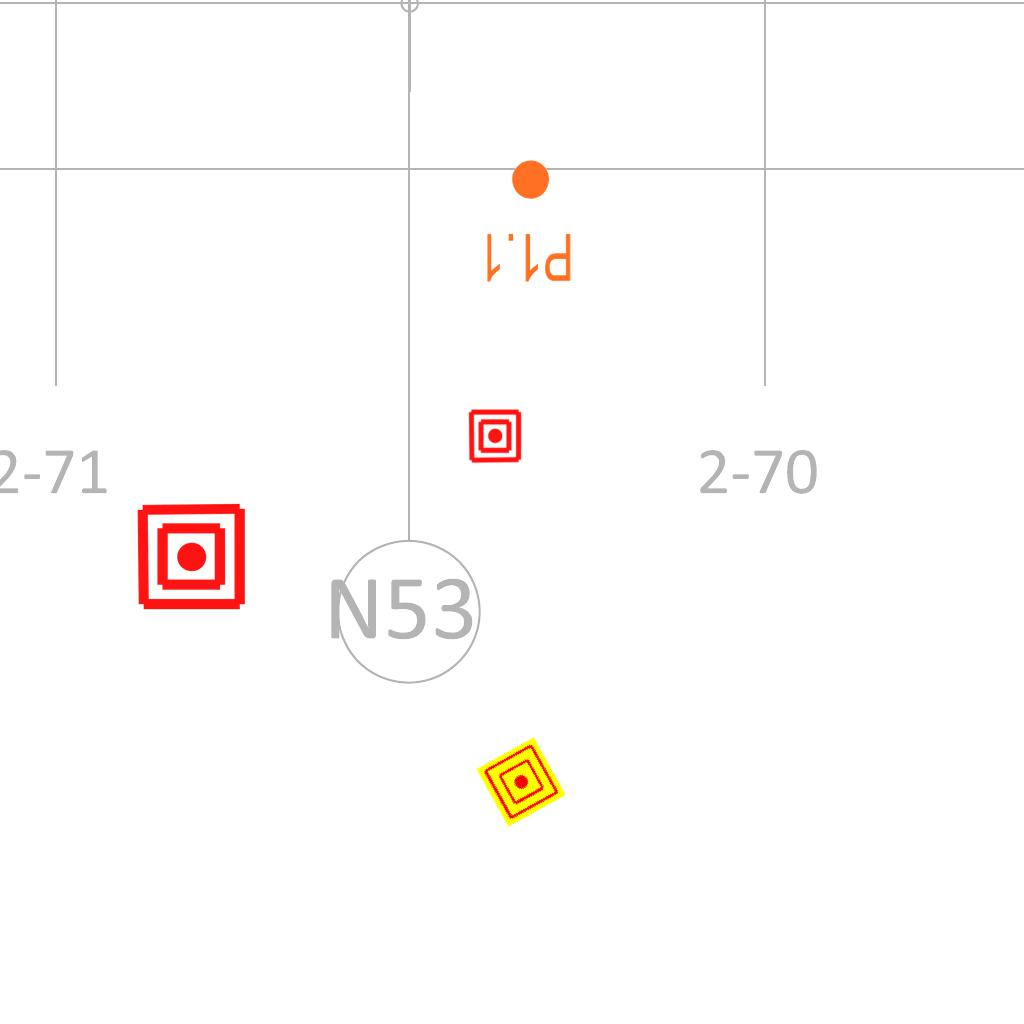Downlight_LED_Einbauleuchten_Flur: (481, 157, 574, 285)
NAM-Nichtautomatischer_Melder: (135, 500, 248, 613), (476, 737, 566, 827), (467, 408, 523, 464)
